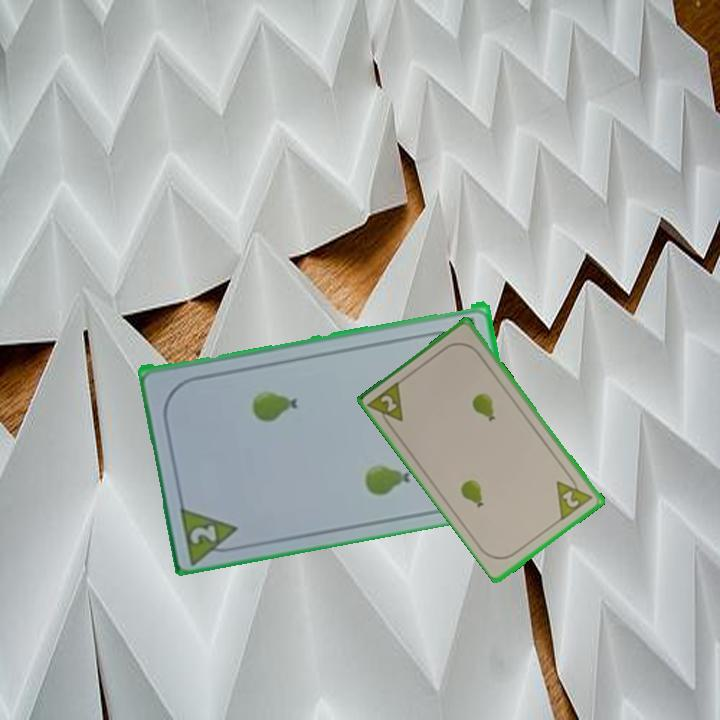2p: (553, 469, 597, 523), (365, 377, 407, 433), (186, 520, 220, 547)
